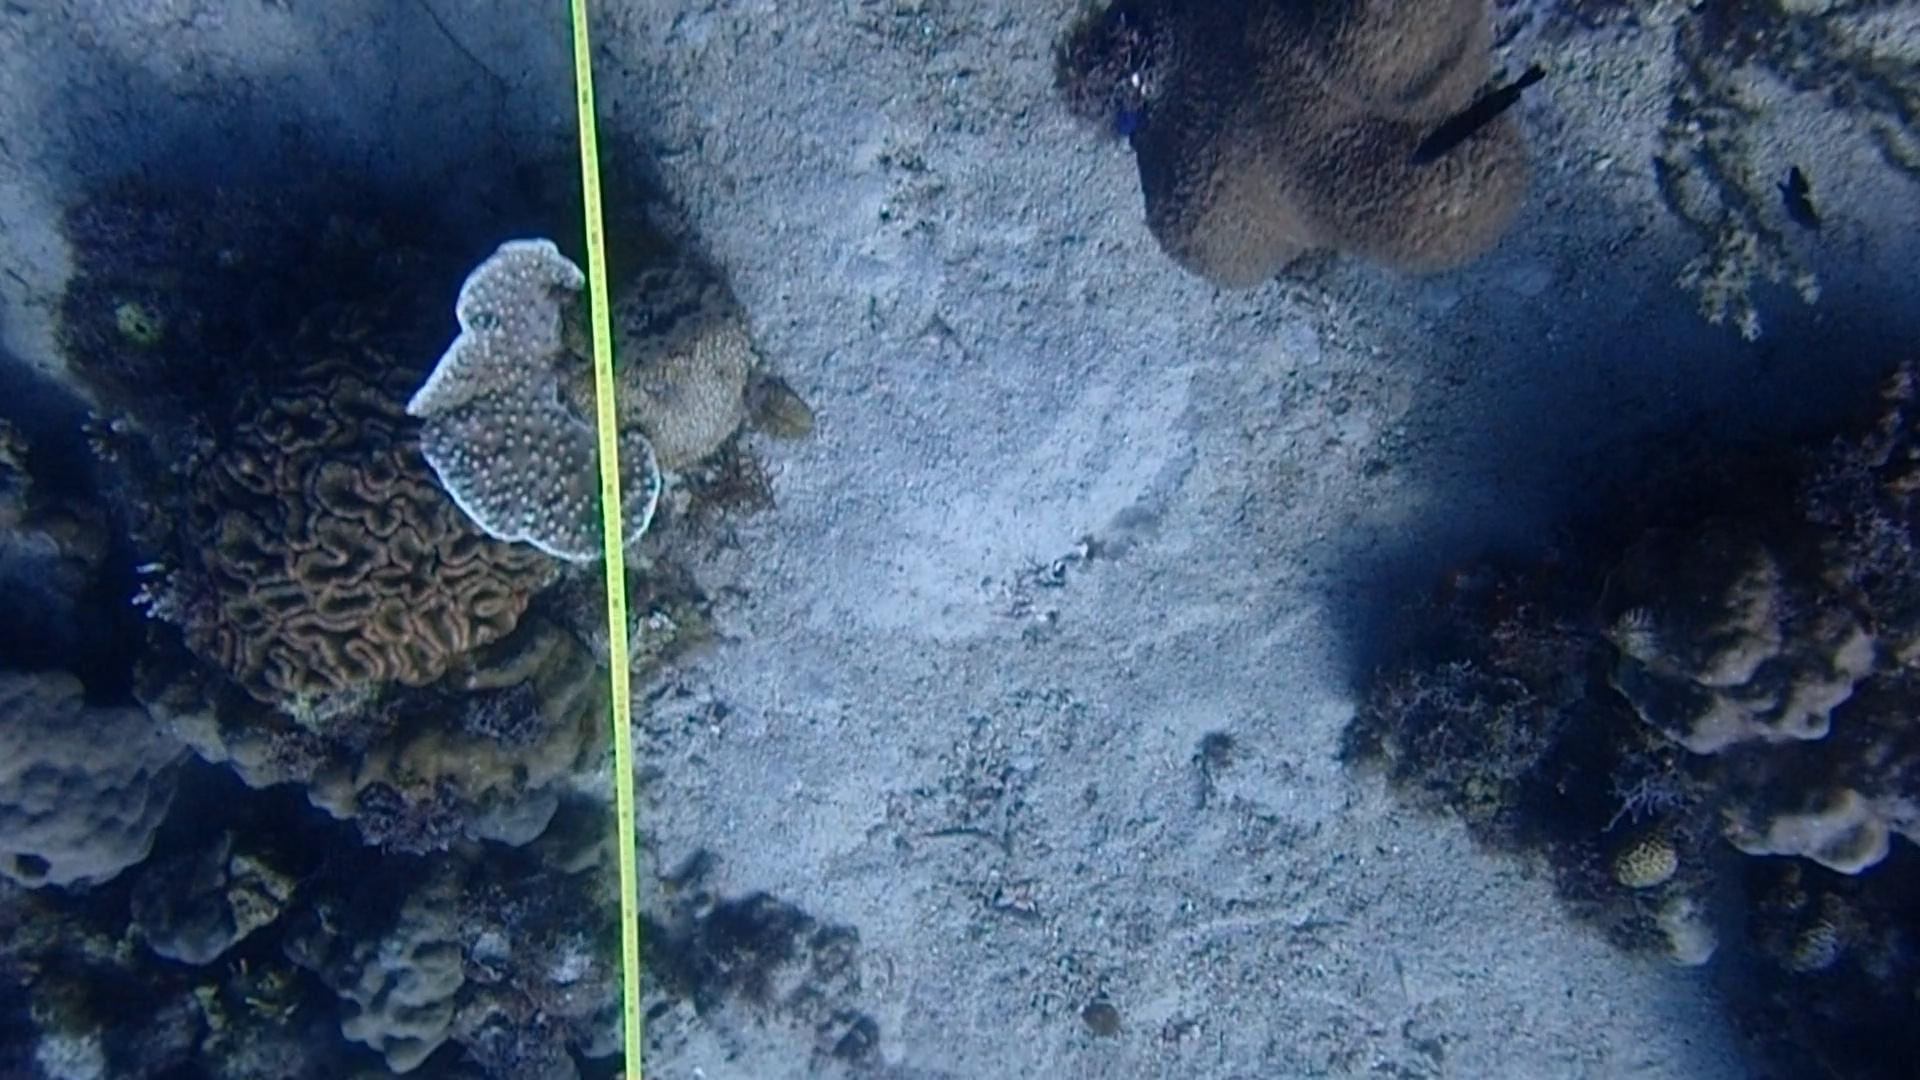Dark Fish: (1418, 51, 1563, 182), (1764, 162, 1838, 241)
